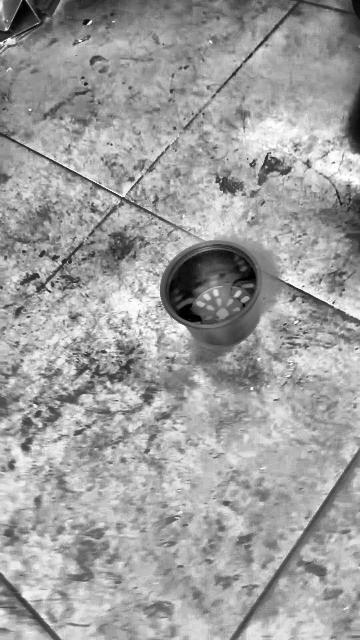pot: (160, 241, 262, 345)
